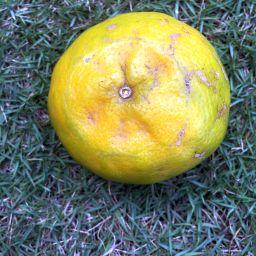Unripe: (51, 17, 228, 173)
